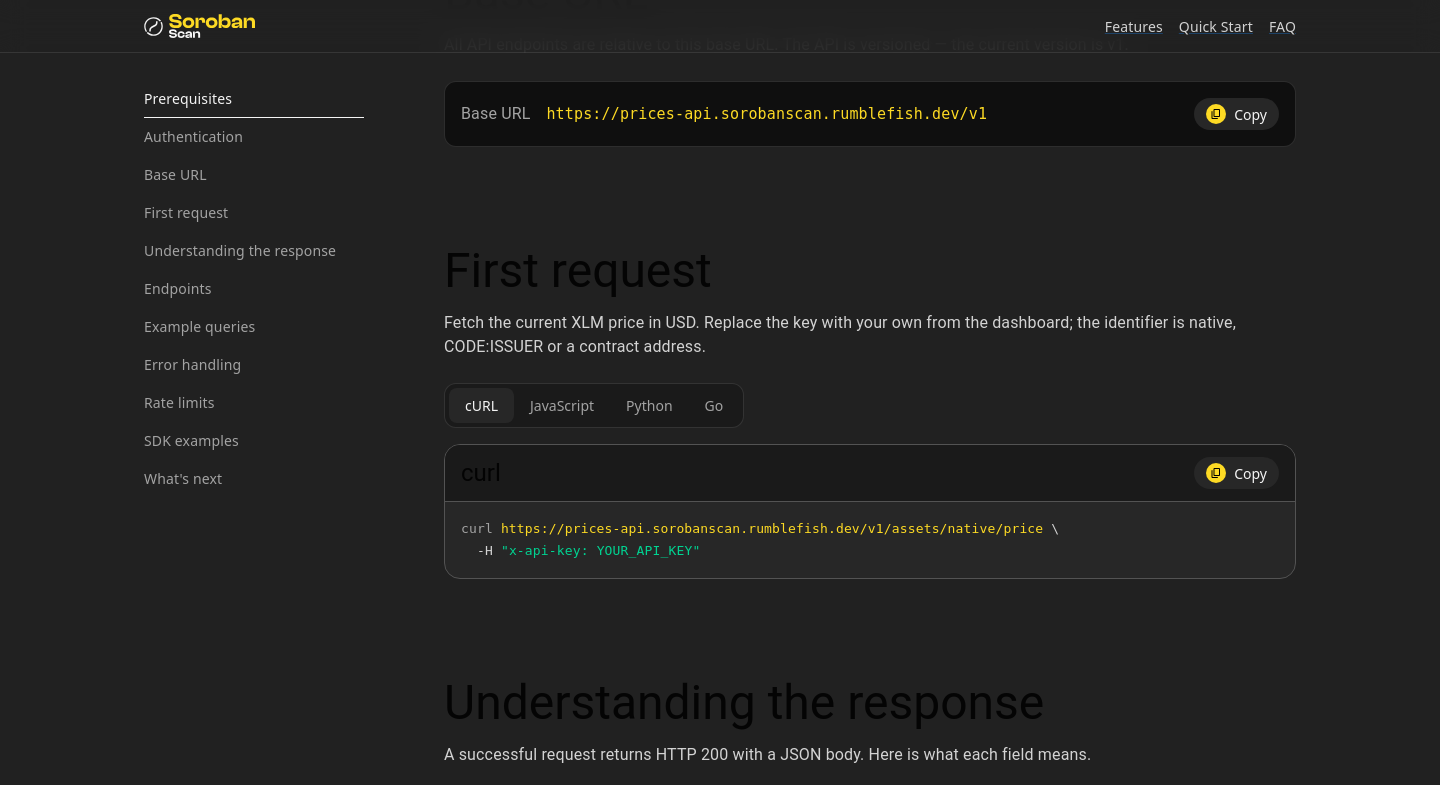
Test: routes › switches the first-request snippet by language and copies it
The width and height of the screenshot is (1440, 785).
(page scrolled)
Expected: the heading "First request" is shown, [444,242,712,299]
Click the tab "Python": (649, 406) [610,388,689,423]
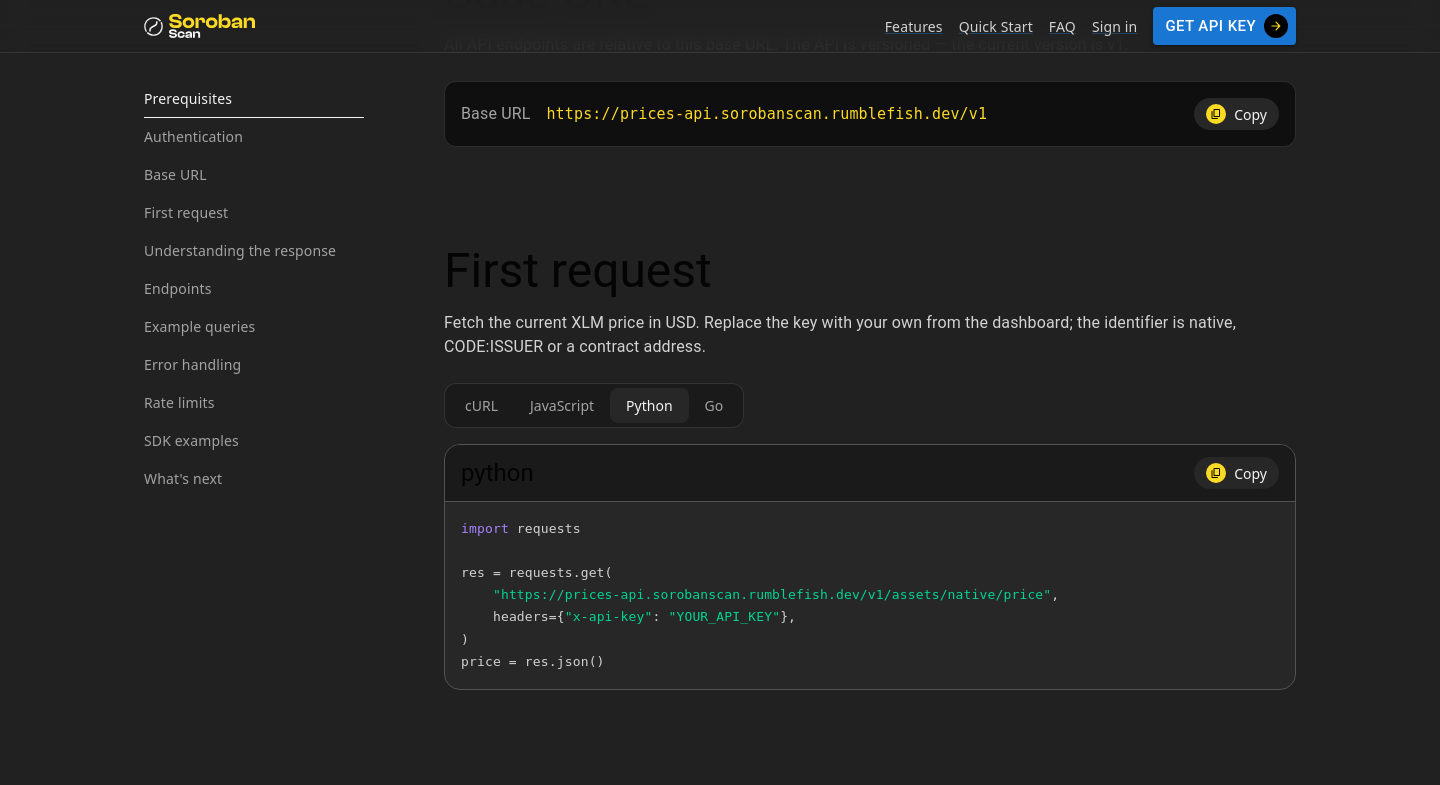
Now the tab "Python" is selected, box [610,388,689,423]
Click the button with aria-label "Copy python example": (1237, 473) [1194,457,1279,489]
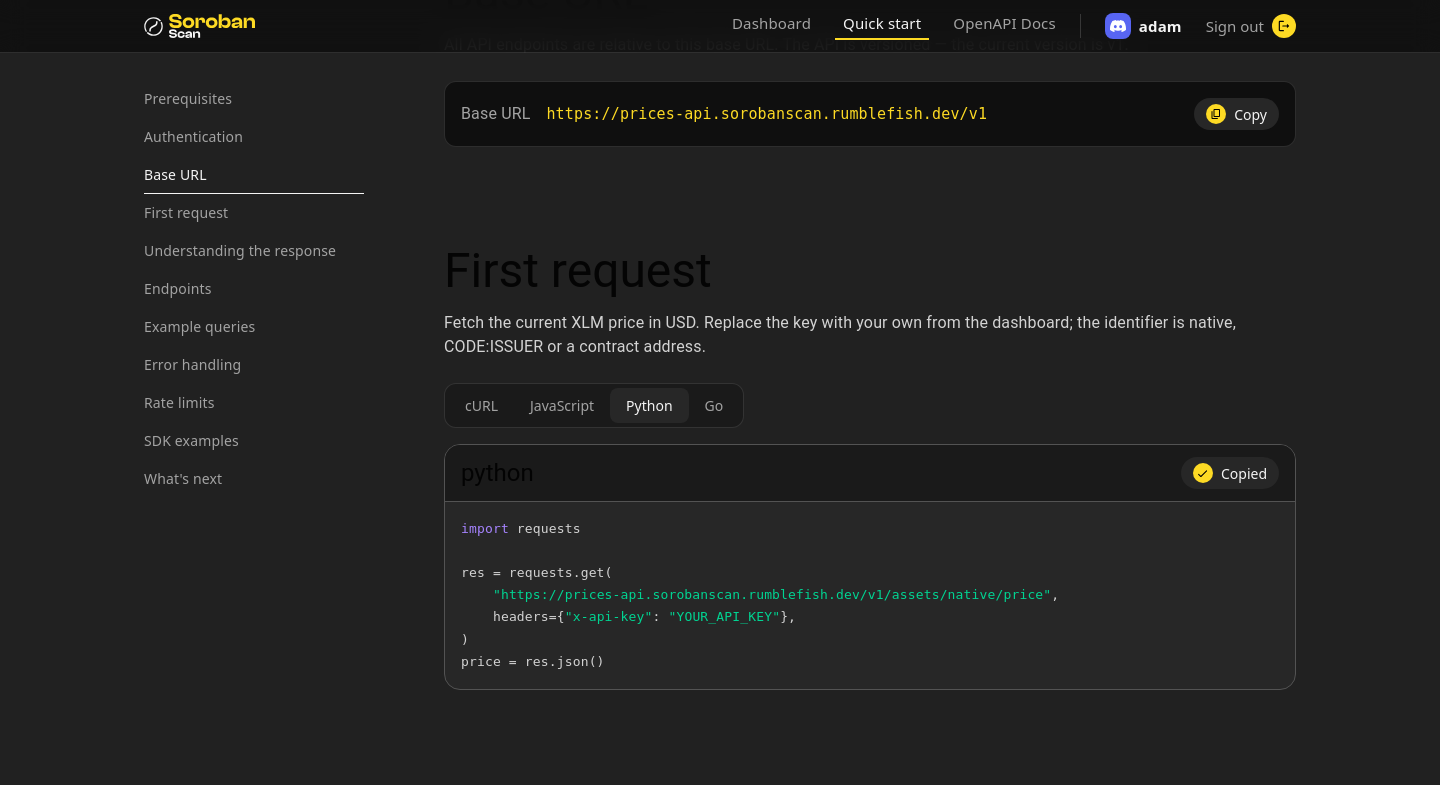
Now the text "Copied" is shown, box [1221,464,1267,483]
